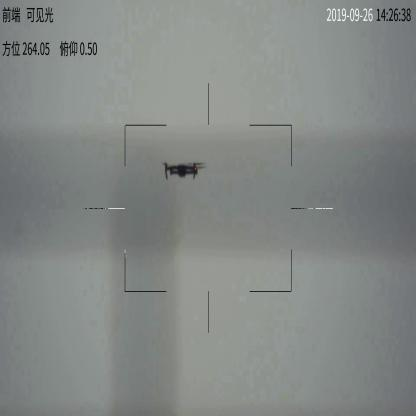uav: (160, 161, 208, 180)
